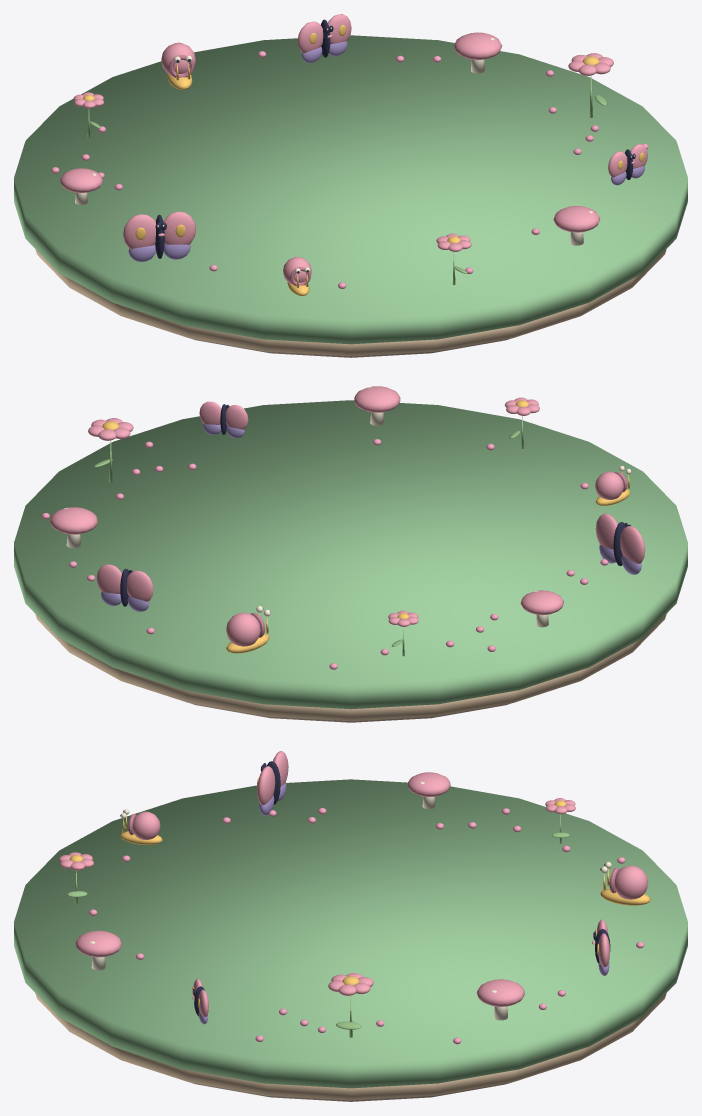
File: world.glb
The picture shows the model from 3 angles, top to bottom: view 1: azimuth 30°, elevation 25°; view 2: azimuth 150°, elevation 25°; view 3: azimuth 270°, elevation 25°; orthographic projection.
Visible parts, largest first — view 1: Cone, Cone.001, butterfly.002, butterfly.001, snail.001, mushroom.001, mushroom.003, butterfly.003, mushroom.002, flower.001, snail.002, flower.003 (+1 smaller); view 2: Cone, Cone.001, butterfly.002, butterfly.001, snail.001, butterfly.003, mushroom.001, mushroom.003, snail.002, mushroom.002, flower.001, flower.003 (+1 smaller); view 3: Cone, Cone.001, snail.001, butterfly.002, mushroom.001, mushroom.003, snail.002, flower.001, mushroom.002, butterfly.001, flower.003, Cone.002 (+2 smaller).
Boxes of the visible parts, bbox=[...] form: Cone: bbox=[14, 35, 687, 344]; Cone.001: bbox=[35, 249, 666, 356]; butterfly.002: bbox=[123, 211, 195, 261]; butterfly.001: bbox=[297, 14, 351, 62]; snail.001: bbox=[161, 42, 195, 89]; mushroom.001: bbox=[454, 32, 501, 73]; mushroom.003: bbox=[553, 206, 600, 245]; butterfly.003: bbox=[608, 144, 647, 185]; mushroom.002: bbox=[59, 168, 102, 205]; flower.001: bbox=[568, 53, 613, 117]; snail.002: bbox=[283, 257, 311, 295]; flower.003: bbox=[436, 233, 471, 284]; Cone: bbox=[14, 400, 687, 709]; Cone.001: bbox=[35, 614, 666, 721]; butterfly.002: bbox=[595, 513, 645, 574]; butterfly.001: bbox=[96, 564, 153, 611]; snail.001: bbox=[226, 606, 270, 653]; butterfly.003: bbox=[199, 401, 248, 438]; mushroom.001: bbox=[50, 507, 97, 548]; mushroom.003: bbox=[354, 386, 400, 425]; snail.002: bbox=[595, 466, 631, 505]; mushroom.002: bbox=[520, 590, 563, 627]; flower.001: bbox=[88, 418, 133, 482]; flower.003: bbox=[505, 397, 539, 448]; Cone: bbox=[14, 779, 687, 1088]; Cone.001: bbox=[35, 993, 666, 1100]; snail.001: bbox=[600, 861, 650, 905]; butterfly.002: bbox=[257, 751, 288, 815]; mushroom.001: bbox=[476, 979, 524, 1020]; mushroom.003: bbox=[75, 930, 121, 970]; snail.002: bbox=[120, 809, 162, 844]; flower.001: bbox=[328, 973, 373, 1037]; mushroom.002: bbox=[407, 772, 450, 809]; butterfly.001: bbox=[592, 919, 610, 975]; flower.003: bbox=[59, 852, 93, 903]; Cone.002: bbox=[190, 1082, 511, 1101].
Bounding box in the file's own units: 9.6 × 1.74 × 9.6.
